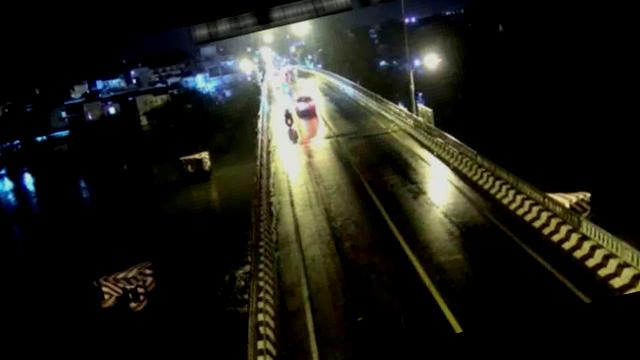Bike: (283, 105, 296, 125)
Car: (294, 89, 320, 118)
